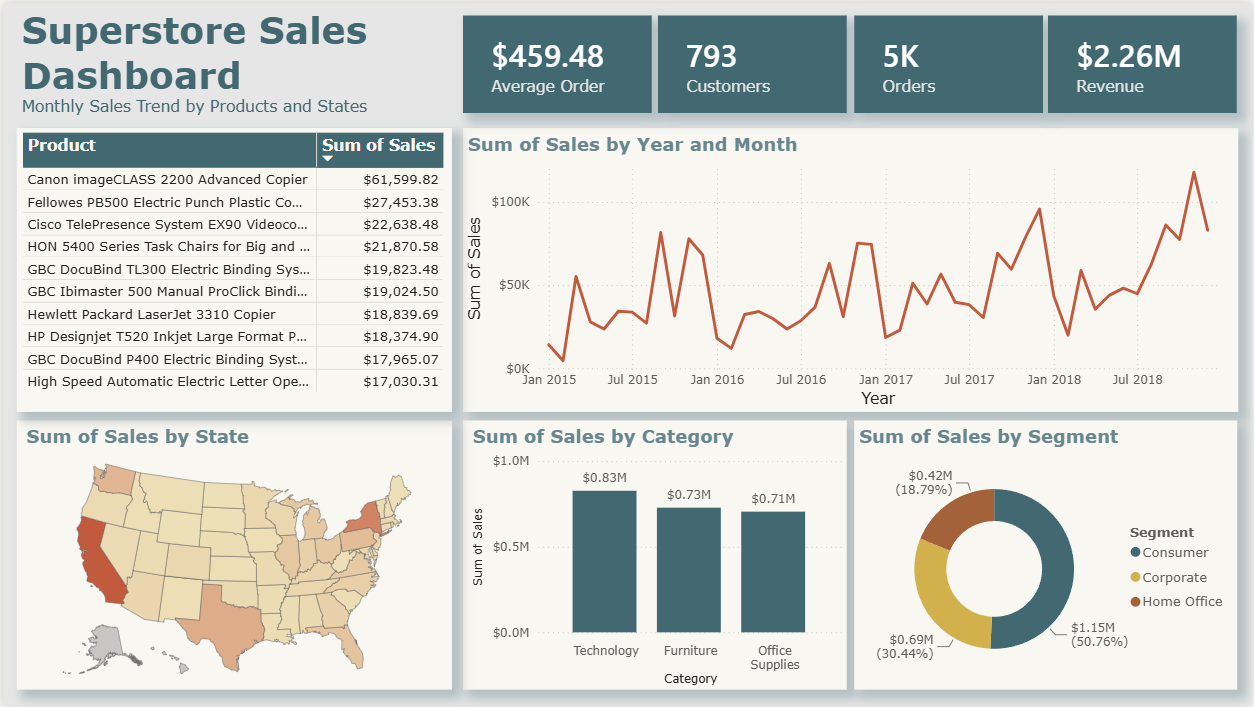

This screenshot's page, from the dashboard's own definition file:
{"tool":"powerbi","page":{"name":"Page 1","canvas":[1280,720],"ordinal":0},"visuals":[{"type":"cardVisual","fields":{"Data":["_calc.Revenue"]},"box":[1071.6,12.5,193.4,100],"z":0,"group":"g1"},{"type":"lineChart","fields":{"Y":["Sum(clean_data.Sales)"],"Category":["clean_data.Order Date.Variation.Date Hierarchy.Year","clean_data.Order Date.Variation.Date Hierarchy.Month"]},"box":[471.2,128.8,795,291.2],"z":0},{"type":"cardVisual","fields":{"Data":["_calc.Average Order"]},"box":[471.2,12.5,193.4,100],"z":1000,"group":"g1"},{"type":"columnChart","fields":{"Category":["clean_data.Category"],"Y":["Sum(clean_data.Sales)"]},"box":[471.2,428.8,393.8,276.2],"z":1000},{"type":"cardVisual","fields":{"Data":["_calc.Customers"]},"box":[670.9,12.5,193.4,100],"z":2000,"group":"g1"},{"type":"cardVisual","fields":{"Data":["_calc.Orders"]},"box":[871.9,12.5,193.4,100],"z":3000,"group":"g1"},{"type":"donutChart","fields":{"Category":["clean_data.Segment"],"Y":["Sum(clean_data.Sales)"]},"box":[872.5,428.8,392.5,276.2],"z":3000},{"type":"shapeMap","fields":{"Category":["clean_data.State"],"Value":["Sum(clean_data.Sales)"]},"box":[13.8,428.8,446.2,276.2],"z":4000},{"type":"tableEx","fields":{"Values":["clean_data.Product Name","Sum(clean_data.Sales)"]},"box":[13.8,128.8,446.2,291.2],"z":5000},{"type":"textbox","box":[13.8,0,446.2,128.8],"z":6000},{"type":"group","id":"g1","title":"Group 1","box":[471.2,12.5,793.8,100],"z":7007}]}

Visuals, with their boxes in screenshot pixels (x1, y1, x2, y2), scaled from the page's 1280x720 canvas onto the 1254x707 screenshot:
cardVisual - _calc.Revenue: <region>1050, 12, 1239, 110</region>
lineChart - Sum(clean_data.Sales) x clean_data.Order Date.Variation.Date Hierarchy.Year: <region>462, 126, 1240, 412</region>
cardVisual - _calc.Average Order: <region>462, 12, 651, 110</region>
columnChart - clean_data.Category x Sum(clean_data.Sales): <region>462, 421, 847, 692</region>
cardVisual - _calc.Customers: <region>657, 12, 847, 110</region>
cardVisual - _calc.Orders: <region>854, 12, 1044, 110</region>
donutChart - clean_data.Segment x Sum(clean_data.Sales): <region>855, 421, 1239, 692</region>
shapeMap - clean_data.State x Sum(clean_data.Sales): <region>14, 421, 451, 692</region>
tableEx - clean_data.Product Name x Sum(clean_data.Sales): <region>14, 126, 451, 412</region>
textbox: <region>14, 0, 451, 126</region>
"Group 1" group: <region>462, 12, 1239, 110</region>
